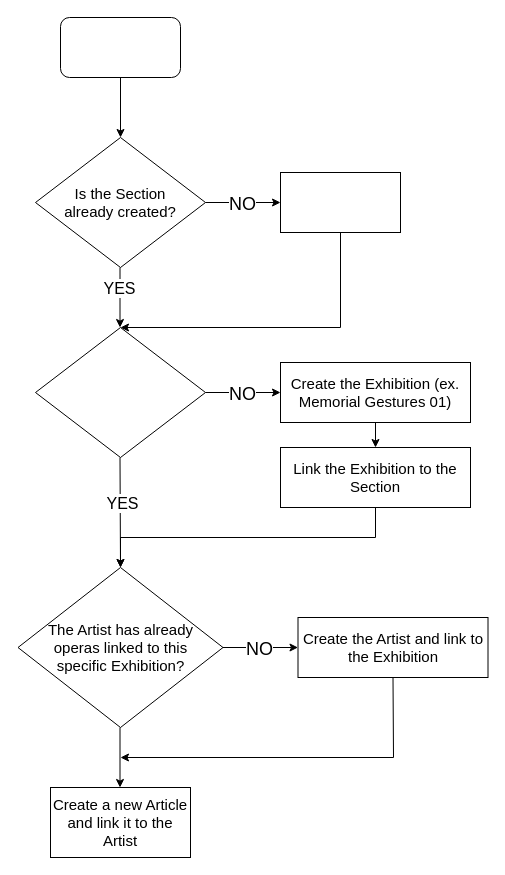
The diagram is 505 pixels wide and 875 high, and some of its shapes have lost their labels. Each missing label, with the box of its shape:
Create a new Section (ex: Podcast): (280, 172, 400, 232)
I want to insert a new Opera: (60, 16, 180, 78)
Is the Exhibition related to the opera already created?: (34, 326, 206, 458)
